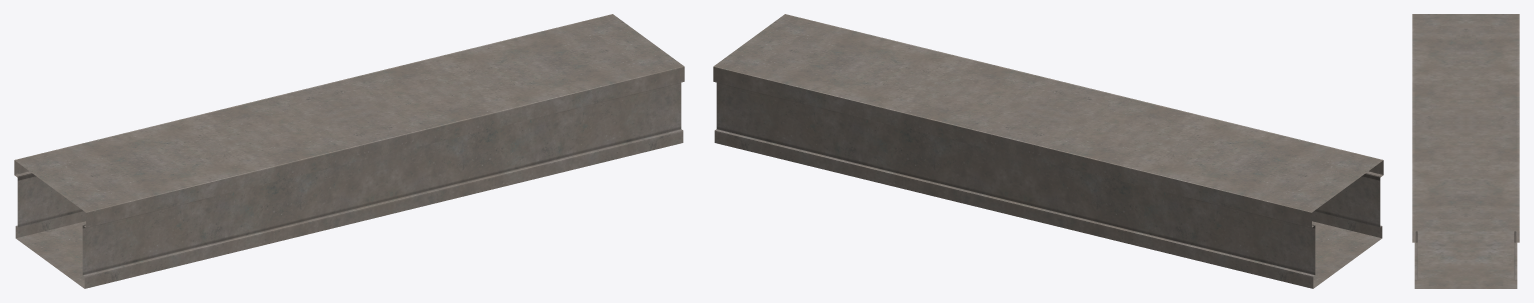
The model's file is sb_obj_outdoor009_AncientTemple_WallTopParts02A.fbx.
The picture shows the model from 3 angles, left to right: view 1: azimuth 30°, elevation 25°; view 2: azimuth 150°, elevation 25°; view 3: azimuth 270°, elevation 25°; orthographic projection. The views are drawn at different scales.
Visible parts, largest first — view 1: sb_obj_outdoor009_AncientTemple_WallTopParts02A; view 2: sb_obj_outdoor009_AncientTemple_WallTopParts02A; view 3: sb_obj_outdoor009_AncientTemple_WallTopParts02A.
Boxes of the visible parts, x1,y1,x2,y2 form: sb_obj_outdoor009_AncientTemple_WallTopParts02A: [14, 14, 684, 288]; sb_obj_outdoor009_AncientTemple_WallTopParts02A: [713, 14, 1383, 288]; sb_obj_outdoor009_AncientTemple_WallTopParts02A: [1412, 14, 1519, 288].
Bounding box in the file's own units: 8 × 0.987 × 1.67.
